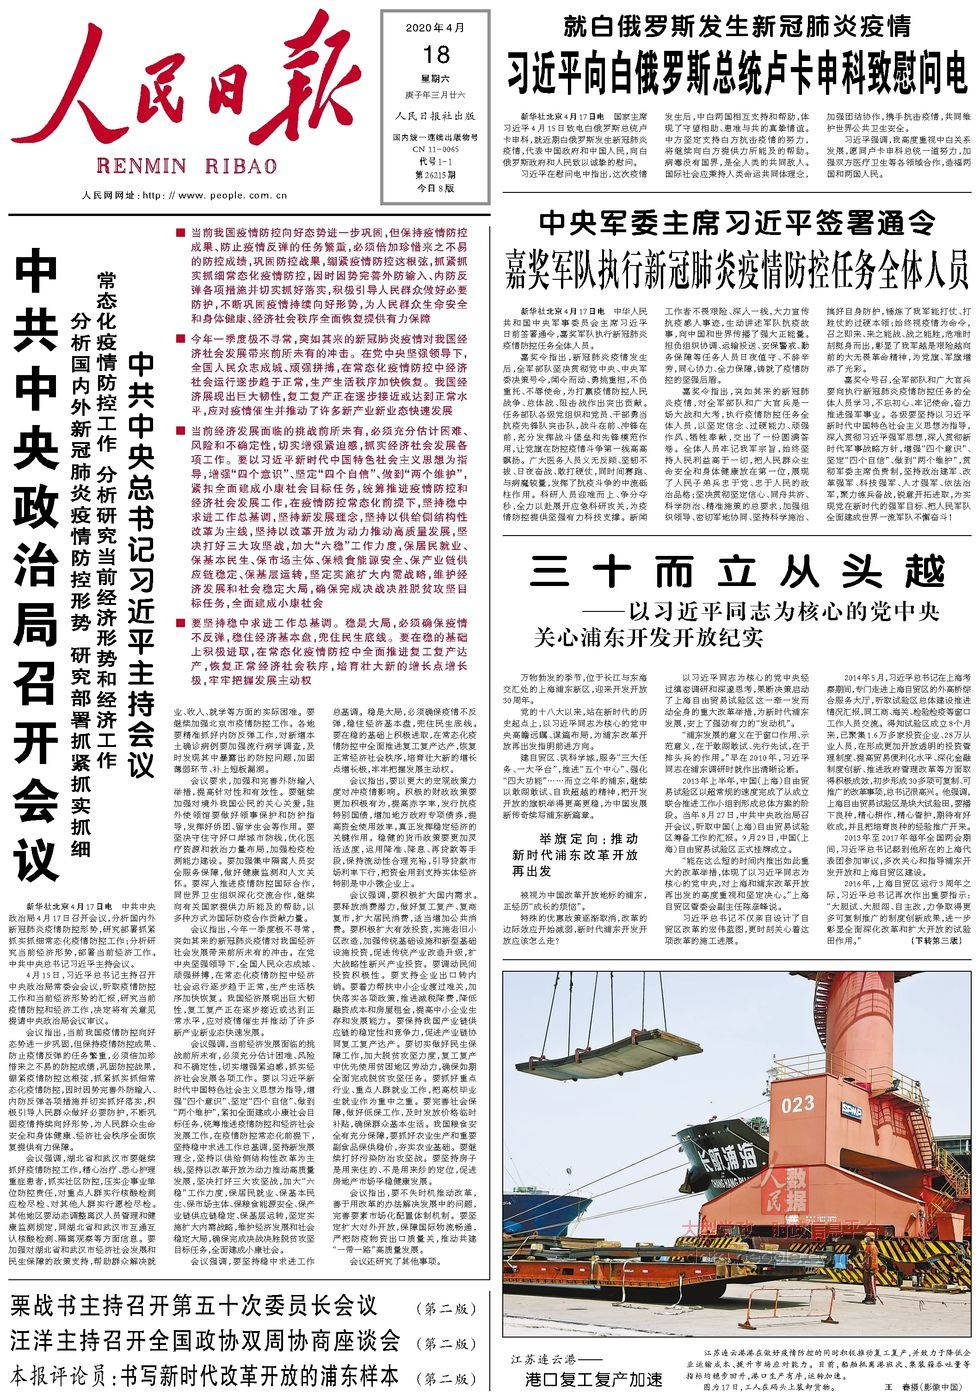pic: (499, 966, 975, 1341)
